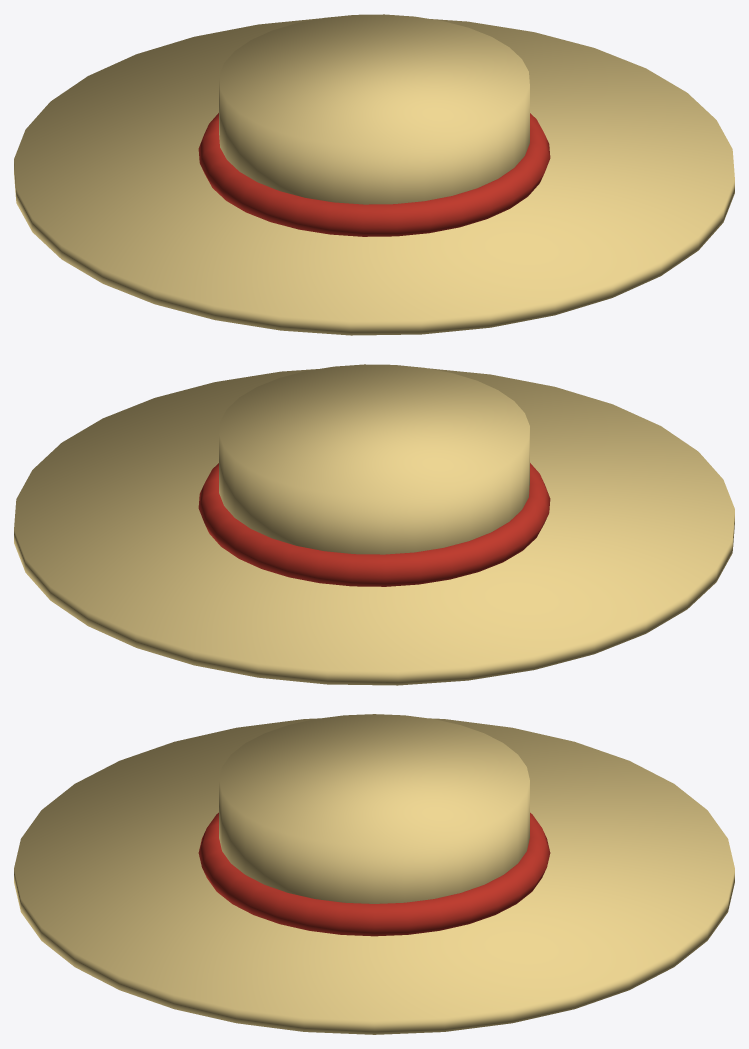
The model's file is hat_straw.glb.
3 renders of one model, top to bottom at view 1: azimuth 30°, elevation 25°; view 2: azimuth 150°, elevation 25°; view 3: azimuth 270°, elevation 25°, orthographic.
Parts seen in each view (by area): view 1: brim, crown, ribbon; view 2: brim, crown, ribbon; view 3: brim, crown, ribbon.
Boxes of the visible parts, bbox=[...] form: brim: bbox=[14, 18, 734, 335]; crown: bbox=[219, 14, 529, 204]; ribbon: bbox=[198, 113, 550, 236]; brim: bbox=[14, 368, 734, 685]; crown: bbox=[219, 364, 529, 554]; ribbon: bbox=[198, 463, 550, 586]; brim: bbox=[14, 718, 734, 1034]; crown: bbox=[219, 714, 529, 903]; ribbon: bbox=[198, 812, 550, 936].
Bounding box in the file's own units: 1.16 × 0.1825 × 1.16.
